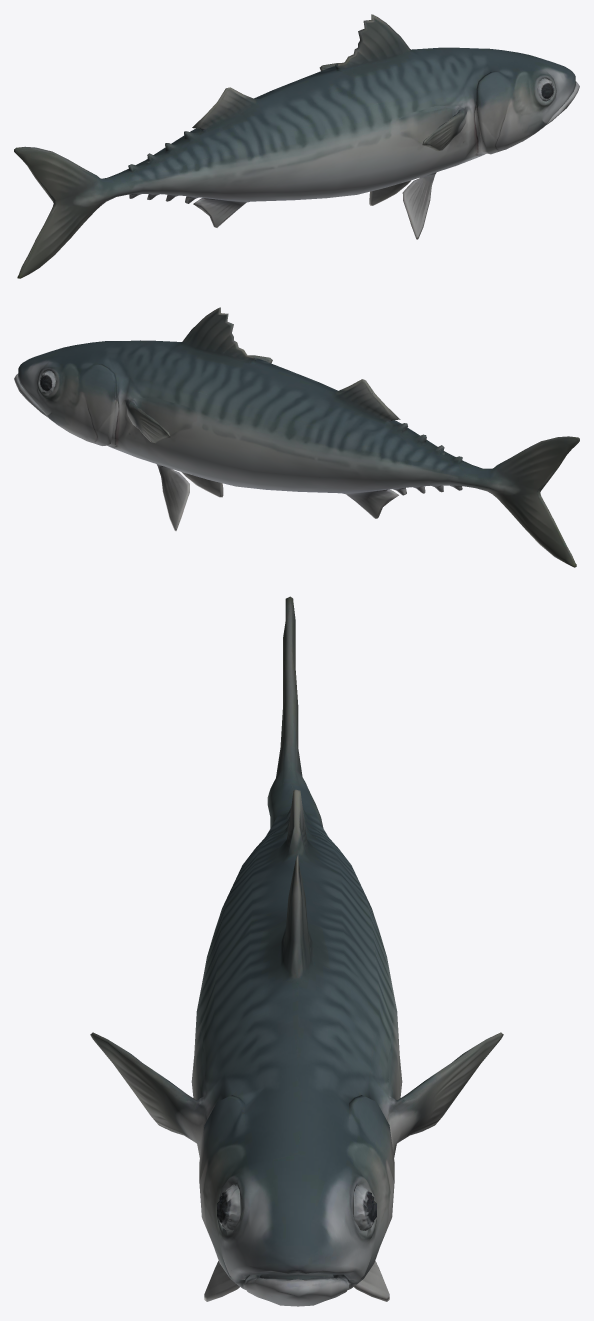
File: original_glb.glb
3 renders of one model, top to bottom at view 1: azimuth 30°, elevation 25°; view 2: azimuth 150°, elevation 25°; view 3: azimuth 270°, elevation 25°, orthographic. The views are drawn at different scales.
Visible parts, largest first — view 1: Fish; view 2: Fish; view 3: Fish.
Boxes of the visible parts, <box> form: Fish: <box>14,14,579,278</box>; Fish: <box>14,307,579,567</box>; Fish: <box>90,596,503,1306</box>.
Size of the model in its own units: 0.998 by 0.3613 by 0.3184.
Materials: 1 (1 with a texture image).
